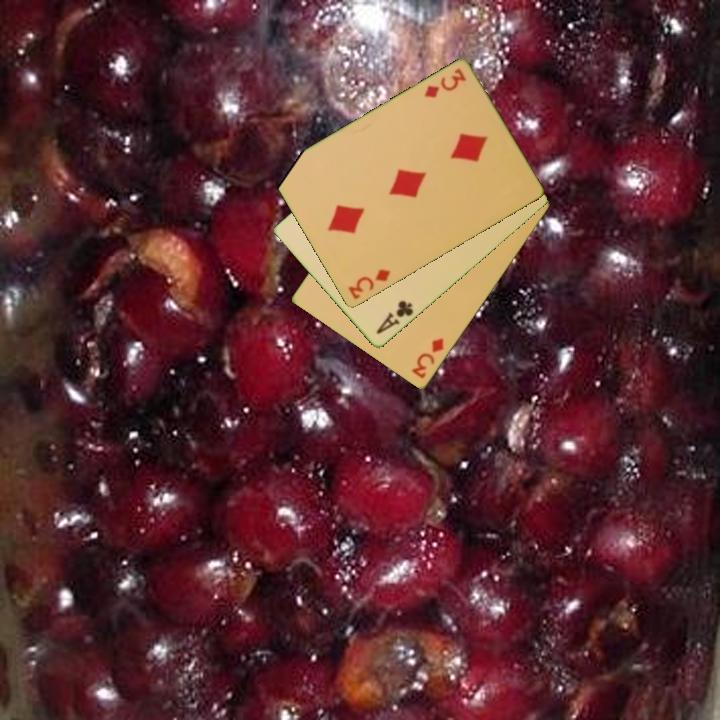3d: (408, 335, 447, 382), (344, 266, 393, 303), (420, 65, 469, 101)
Ac: (372, 297, 416, 338)
